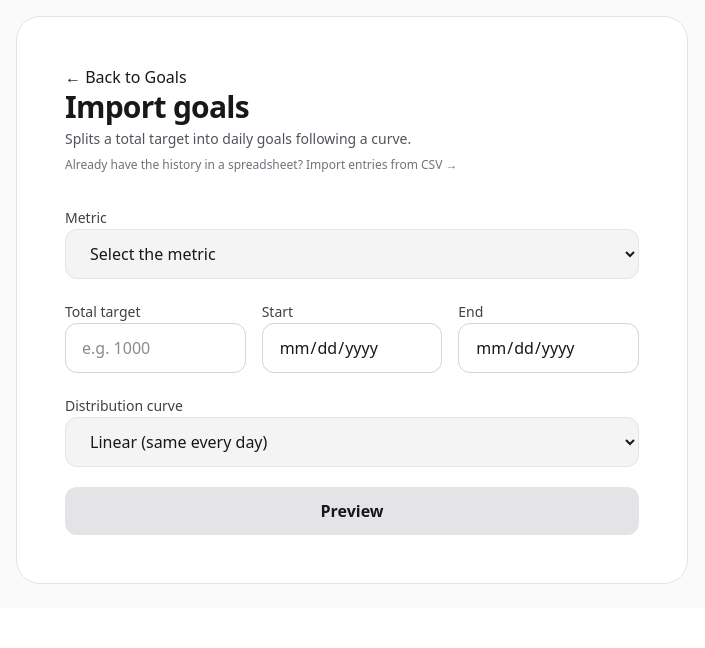
Test case: ImportGoals › mostra a prévia (dry_run) com soma e pontos
The width and height of the screenshot is (705, 648).
Select "Receita (daily)" in the dropdown named "metric_id" below "Metric" at x=352, y=254, box left=65, top=229, right=639, bottom=279
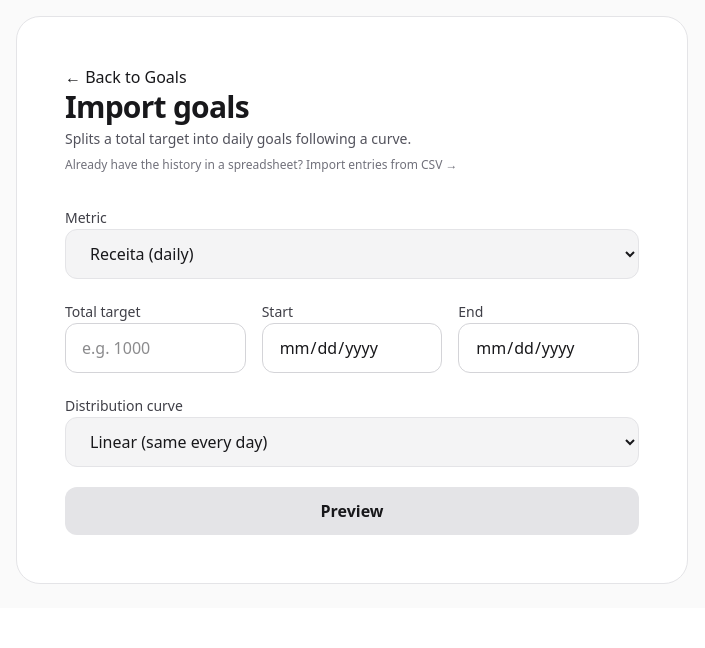
Type "100" into the number field named "alvo_total".
click(155, 348); type("100")  # box left=65, top=323, right=246, bottom=373
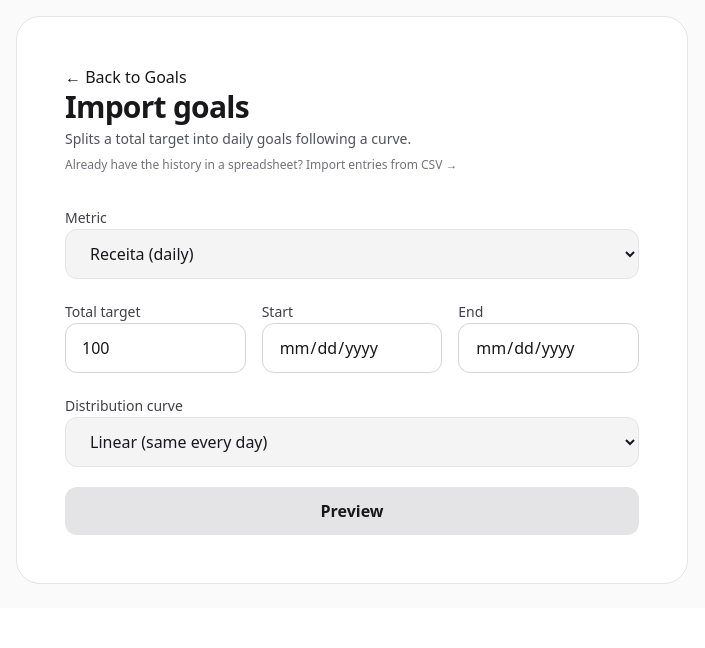
Type "2026-08-03" into the date field named "inicio" below "Start".
click(352, 348); type("2026-08-03")  # box left=262, top=323, right=442, bottom=373
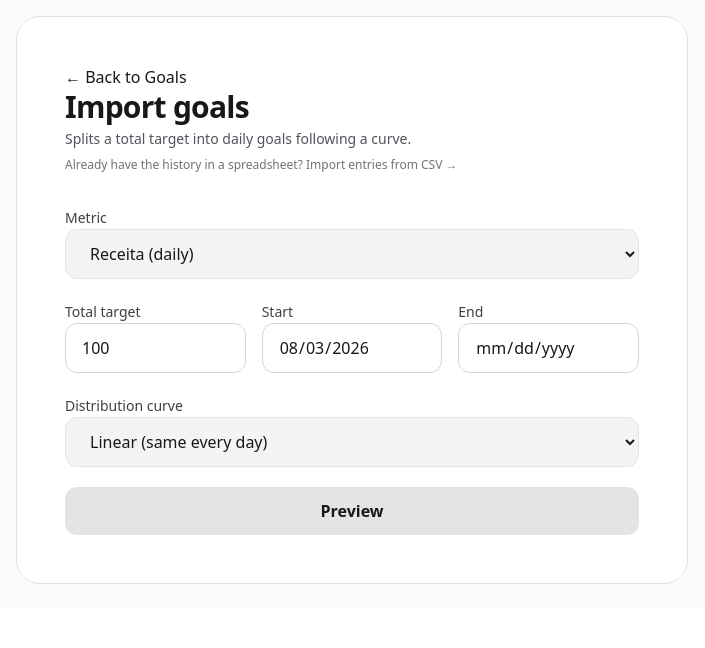
Type "2026-08-06" into the date field named "fim" below "End".
click(549, 348); type("2026-08-06")  # box left=458, top=323, right=639, bottom=373
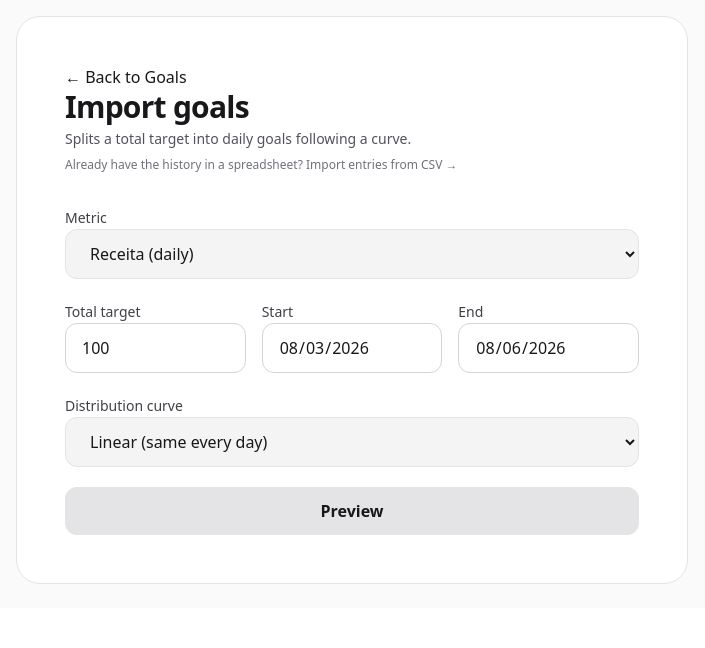
Click the button "Preview".
click(352, 511)  # box left=65, top=487, right=639, bottom=535
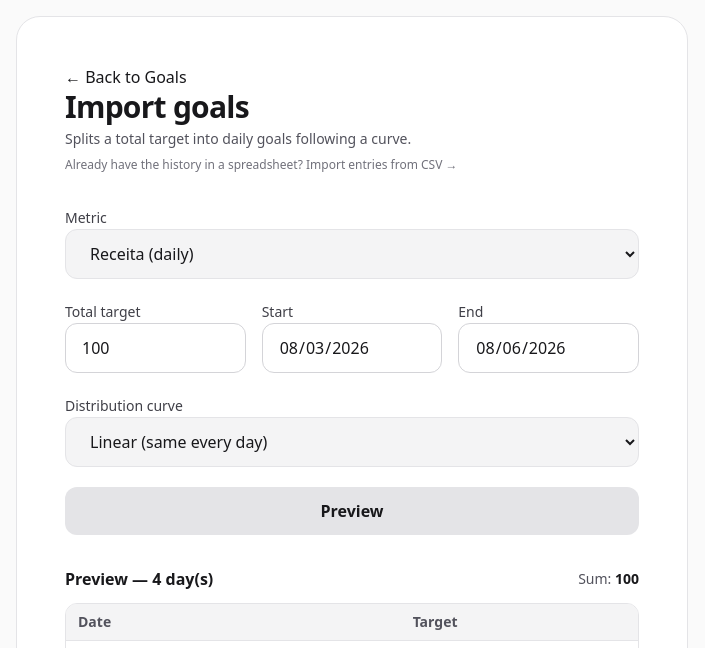
Check: the heading "Preview — 4 day(s)" is shown, box left=65, top=567, right=213, bottom=591
Check: the text "100" is shown, box left=615, top=569, right=639, bottom=588
